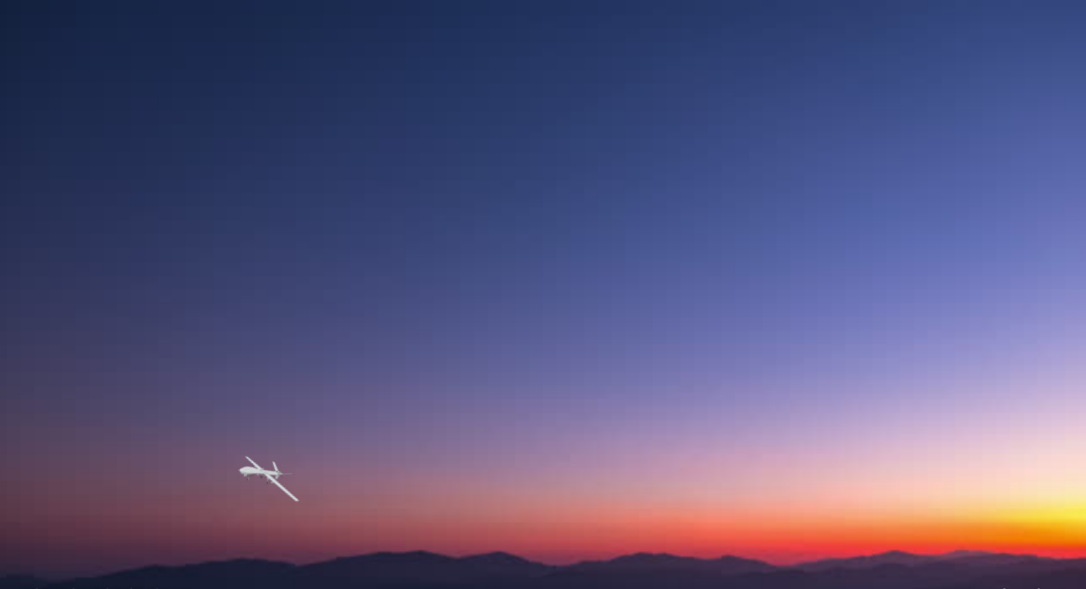military drone: (238, 455, 299, 501)
